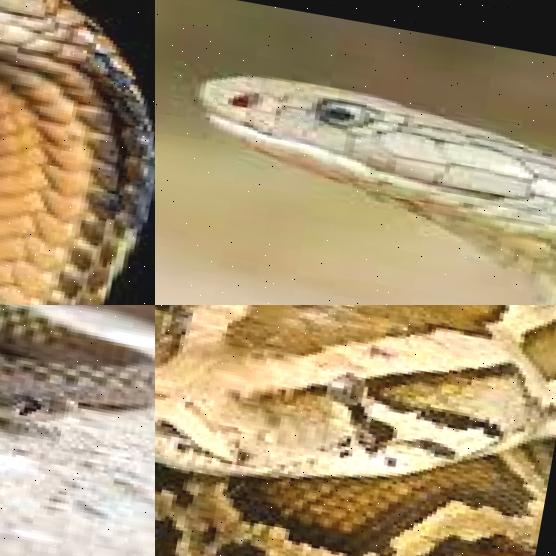snake: (155, 44, 556, 305), (155, 305, 556, 556), (0, 0, 155, 305), (0, 305, 155, 525)
